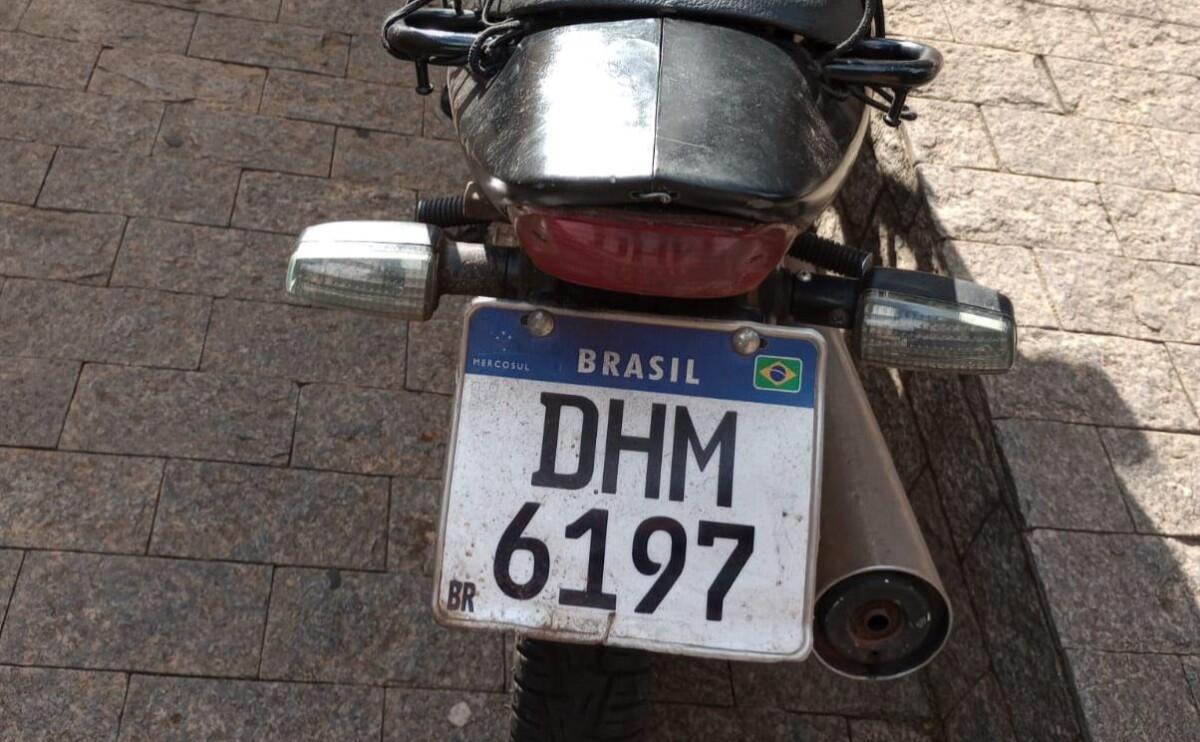placa de veiculo: (427, 273, 868, 697)
